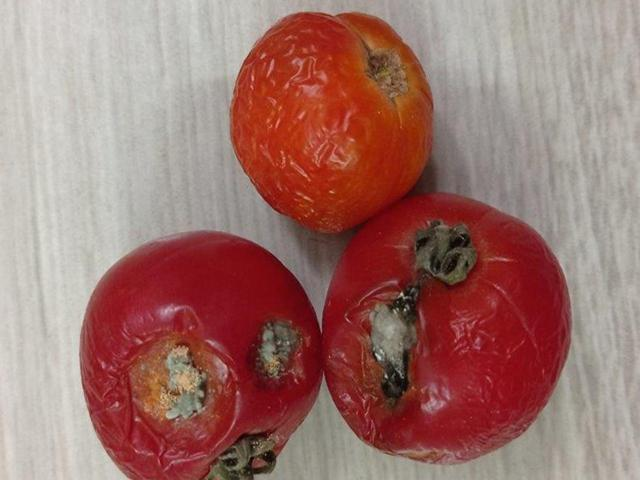defect: (321, 195, 577, 464), (75, 225, 324, 480)
